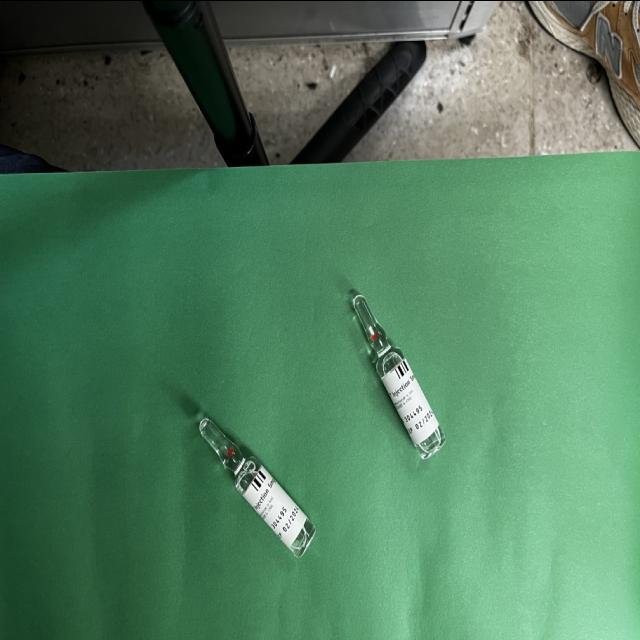Ampoules: (199, 415, 315, 556), (352, 293, 444, 458)
